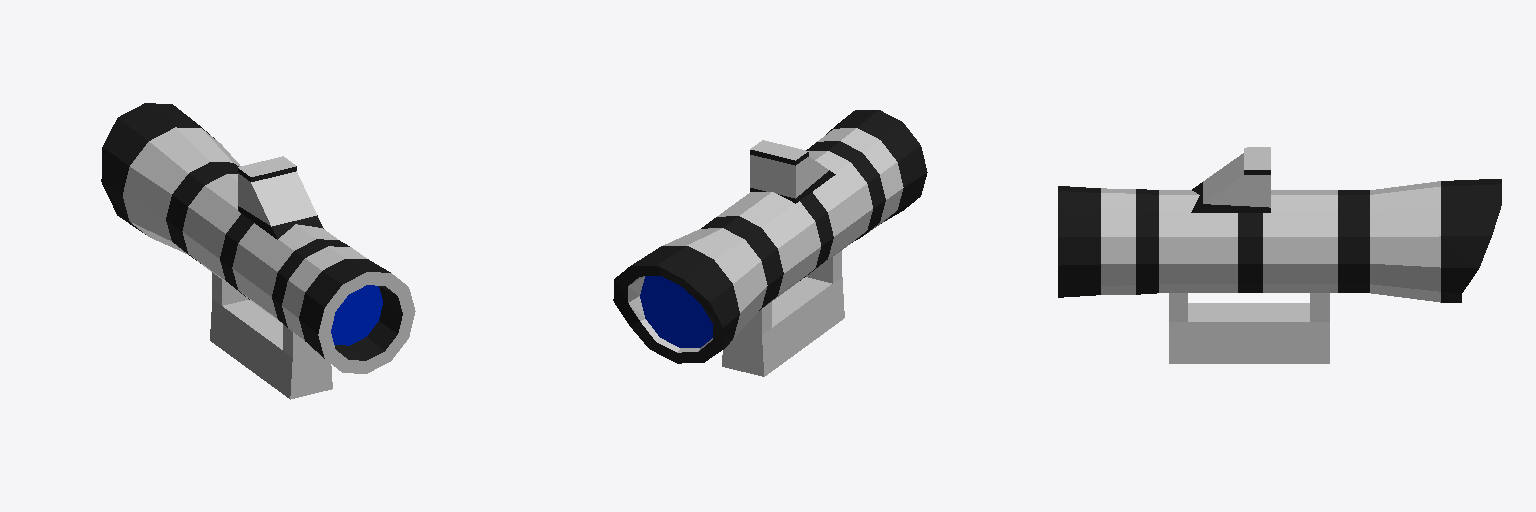
File: acog.obj
3 renders of one model, left to right at view 1: azimuth 30°, elevation 25°; view 2: azimuth 150°, elevation 25°; view 3: azimuth 270°, elevation 25°, orthographic.
Parts seen in each view (by area): view 1: Cube_Cube.001; view 2: Cube_Cube.001; view 3: Cube_Cube.001.
Boxes of the visible parts, x1,y1,x2,y2 form: Cube_Cube.001: [101, 103, 415, 399]; Cube_Cube.001: [613, 110, 927, 376]; Cube_Cube.001: [1058, 147, 1501, 363].
Size of the model in its own units: 0.0513 by 0.0872 by 0.1796.